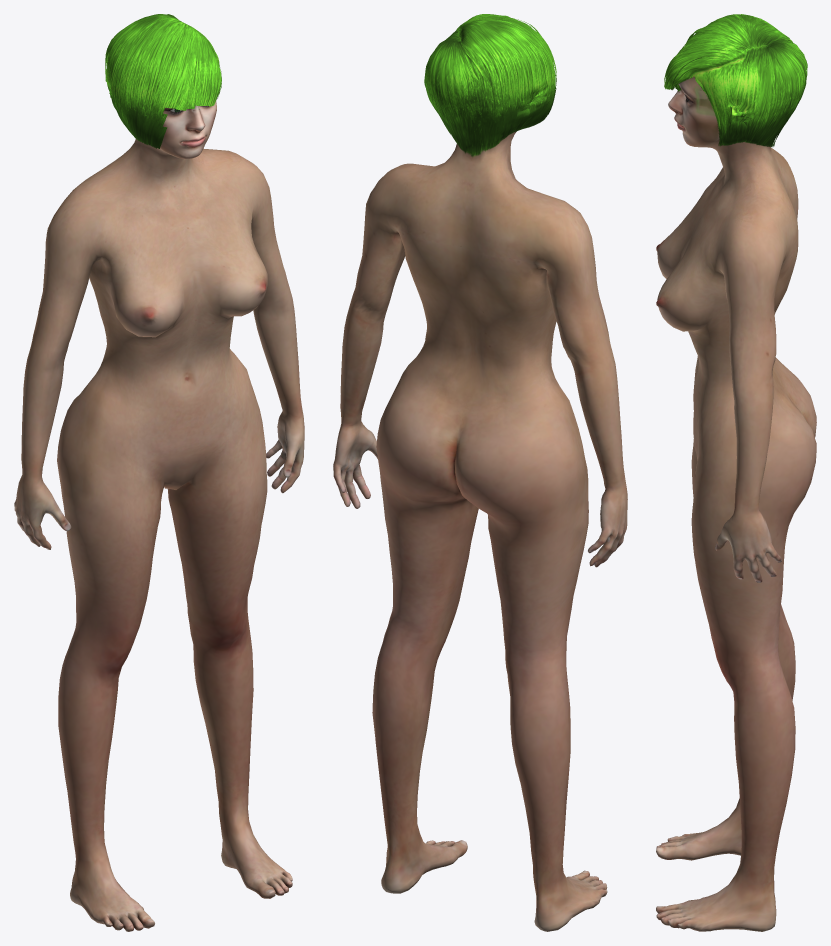
File: figur_stand_u3.glb
The picture shows the model from 3 angles, left to right: view 1: azimuth 30°, elevation 25°; view 2: azimuth 150°, elevation 25°; view 3: azimuth 270°, elevation 25°; orthographic projection. The views are drawn at different scales.
Visible parts, largest first — view 1: body, hair; view 2: body, hair; view 3: body, hair.
Part boxes in pixels (<box>): body: <box>14,100,304,931</box>; hair: <box>105,14,221,148</box>; body: <box>333,37,627,931</box>; hair: <box>424,14,556,157</box>; body: <box>656,46,816,931</box>; hair: <box>664,14,807,147</box>.
Bounding box in the file's own units: 0.5449 × 1.63 × 0.2731.
4 materials, 4 textured.
